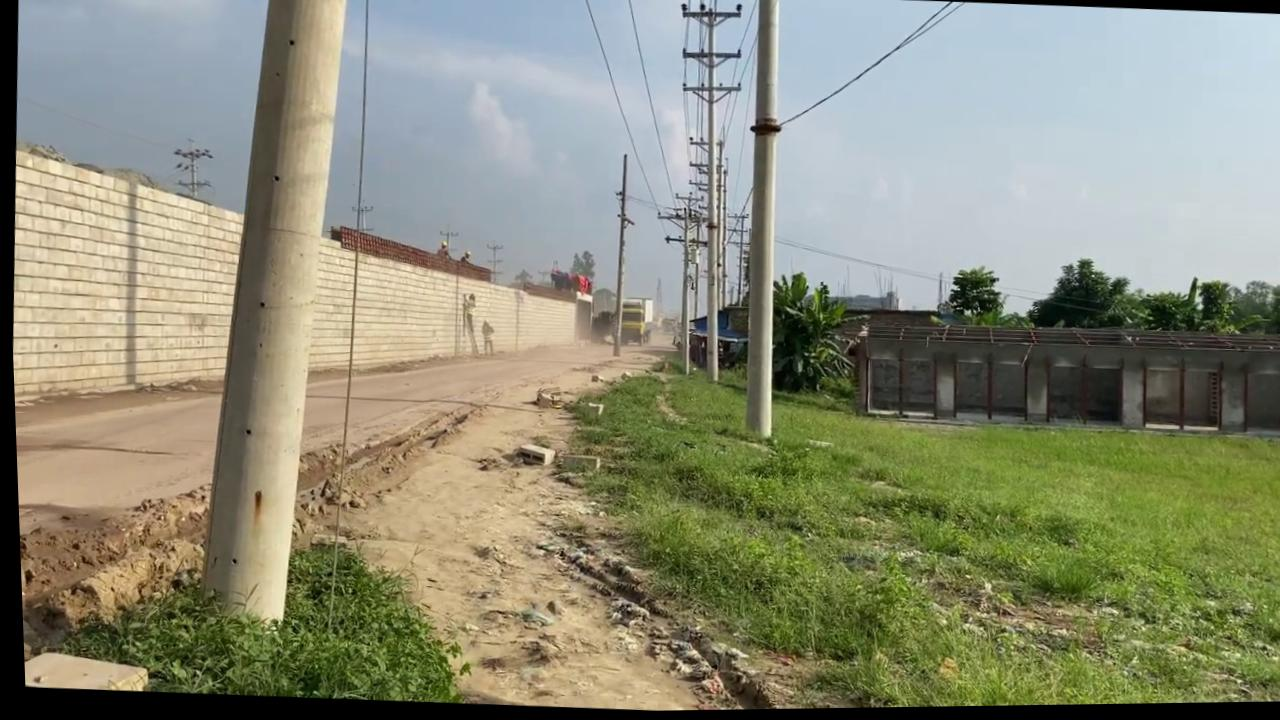Muddy road: (9, 302, 790, 720)
Pole: (174, 0, 369, 636), (727, 0, 793, 442), (602, 154, 632, 359)
Traffic-sign: (1025, 256, 1134, 334), (939, 265, 1004, 329)
Tree: (667, 302, 749, 373), (587, 294, 652, 349), (546, 268, 591, 297)
Upstairs: (4, 139, 598, 428), (835, 313, 1280, 445)
